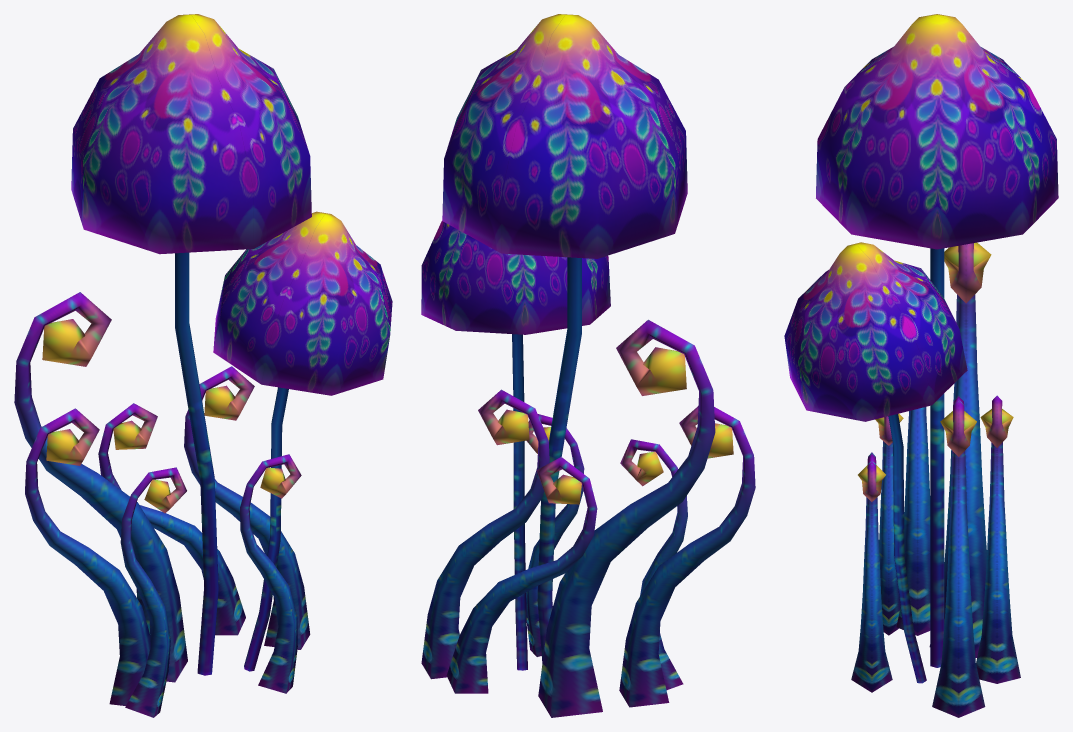
Rendered from Mushroom_04G_d.FBX.
The picture shows the model from 3 angles, left to right: view 1: azimuth 30°, elevation 25°; view 2: azimuth 150°, elevation 25°; view 3: azimuth 270°, elevation 25°; orthographic projection. The views are drawn at different scales.
Parts seen in each view (by area): view 1: Mushroom_04G_d; view 2: Mushroom_04G_d; view 3: Mushroom_04G_d.
Part boxes in pixels (x1,y1,x2,y2): Mushroom_04G_d: (14, 14, 392, 717); Mushroom_04G_d: (421, 14, 755, 717); Mushroom_04G_d: (784, 14, 1058, 717).
Size of the model in its own units: 188 by 354 by 136.
